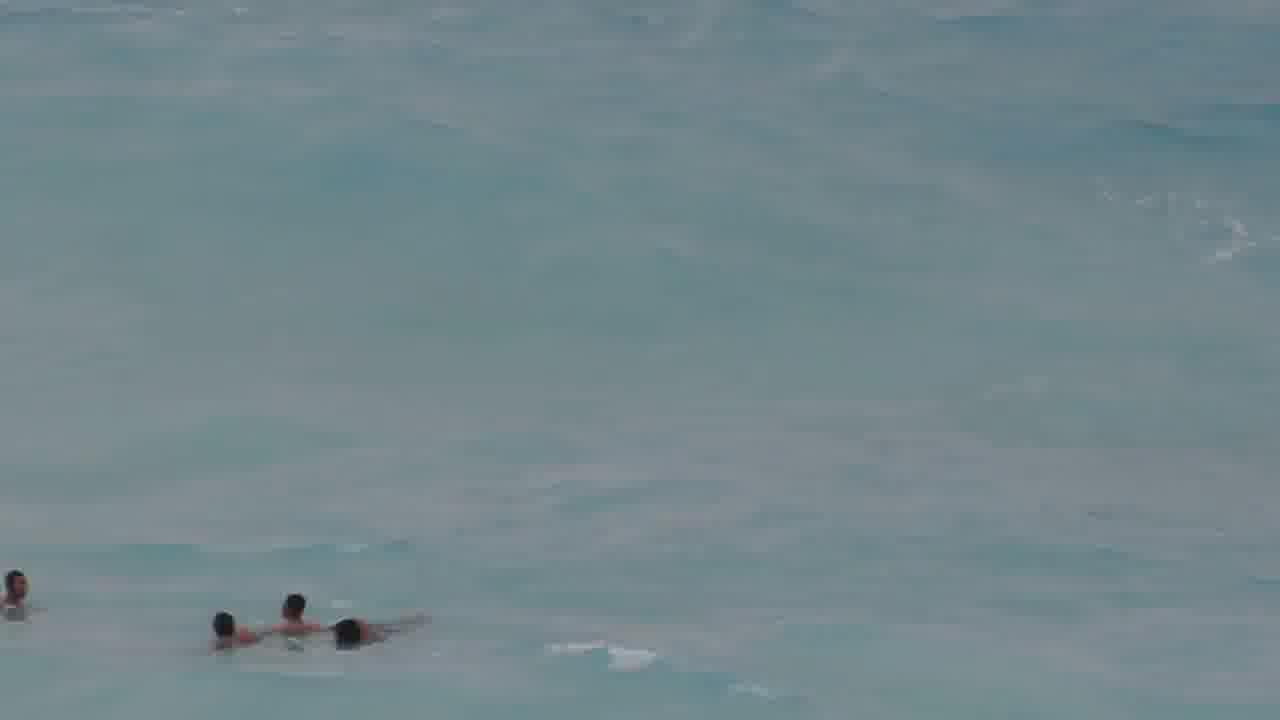human: (327, 596, 426, 651), (198, 600, 272, 655), (260, 579, 324, 635), (0, 557, 37, 627)
